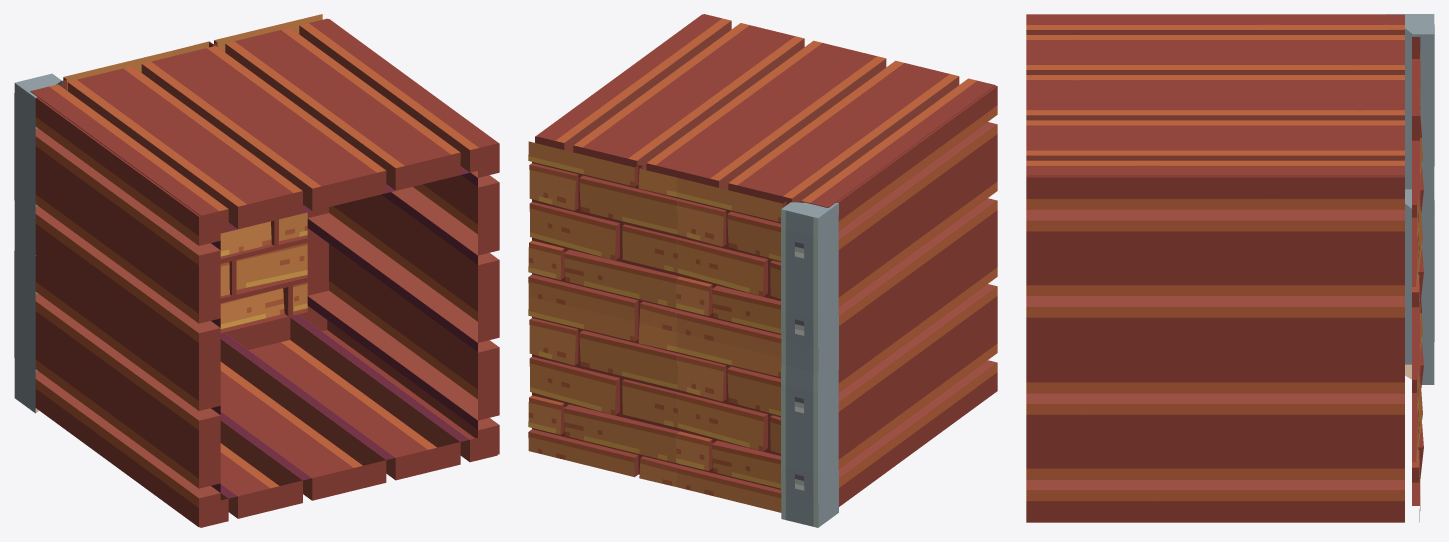
The model's file is RightKayu.fbx.
3 renders of one model, left to right at view 1: azimuth 30°, elevation 25°; view 2: azimuth 150°, elevation 25°; view 3: azimuth 270°, elevation 25°, orthographic. The views are drawn at different scales.
Visible parts, largest first — view 1: RightKayu; view 2: RightKayu; view 3: RightKayu.
Boxes of the visible parts, x1,y1,x2,y2 form: RightKayu: (14,14,499,527); RightKayu: (528,14,997,527); RightKayu: (1026,14,1434,522).
Size of the model in its own units: 94.81 by 95 by 100.
